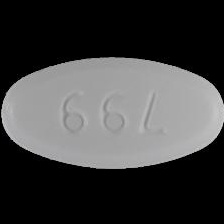0093-5379: (0, 0, 224, 224)
